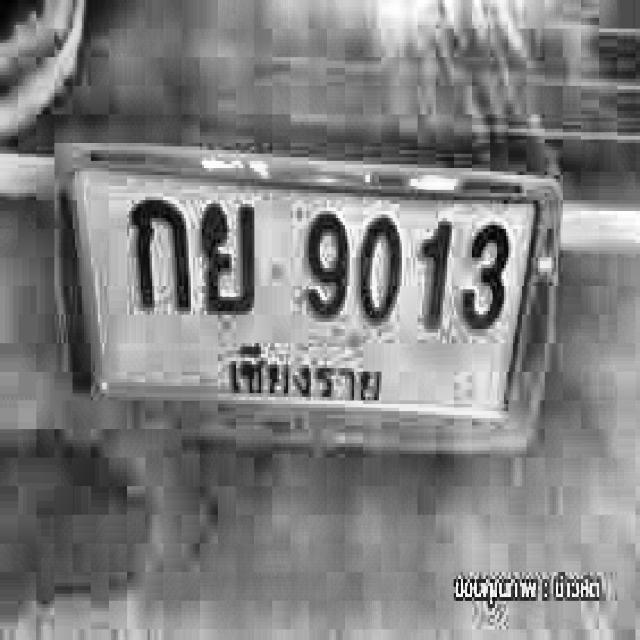license-plate: (54, 136, 562, 446)
